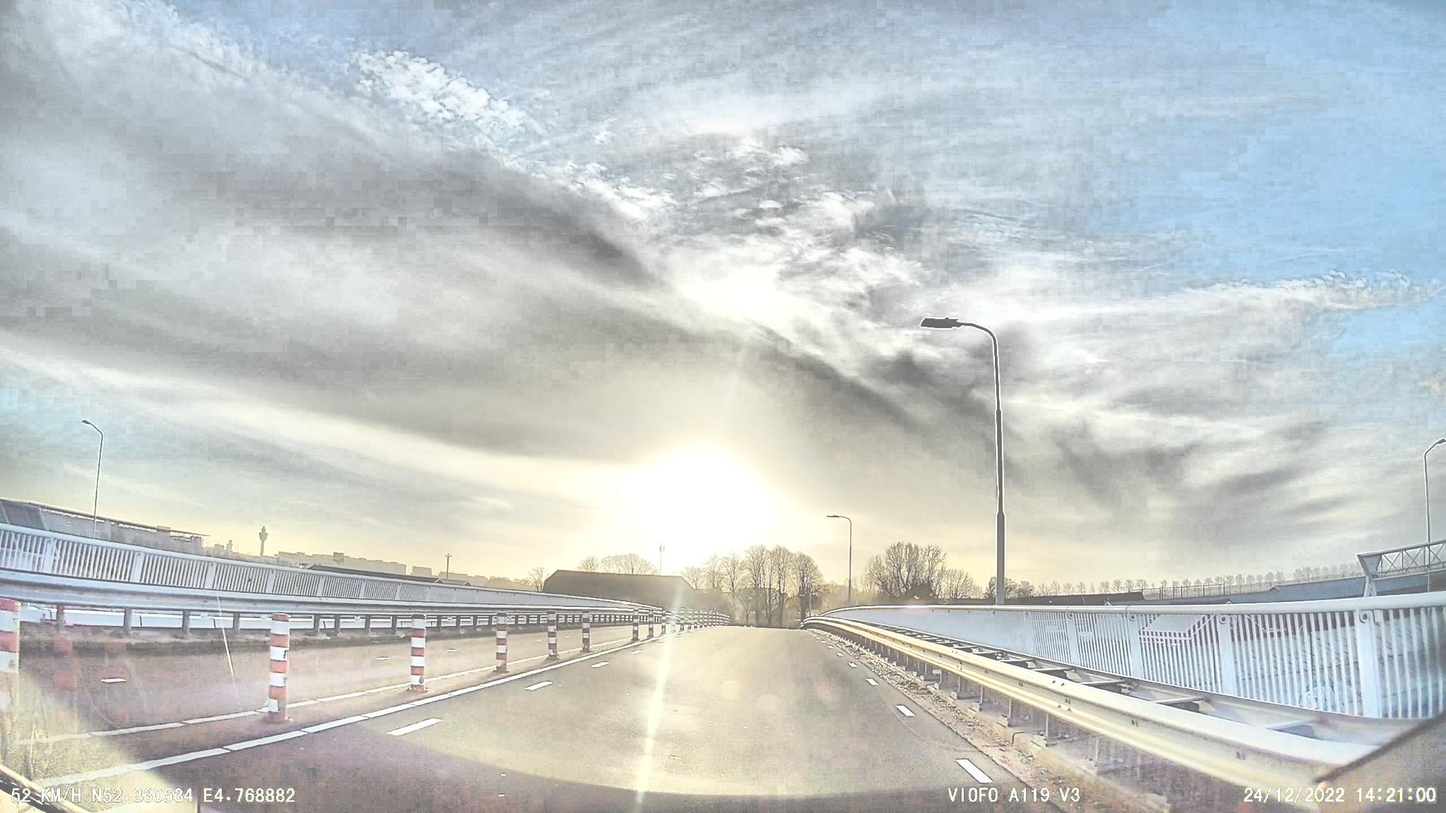Roads: (153, 628, 1017, 813)
